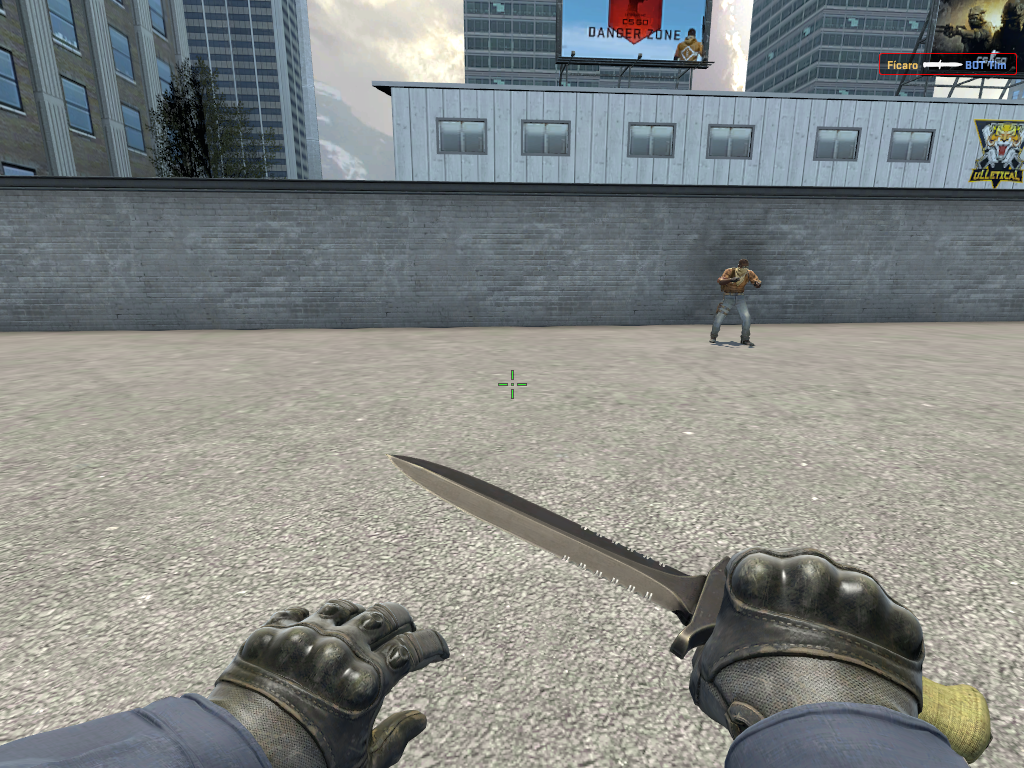tr head: (733, 256, 756, 279)
